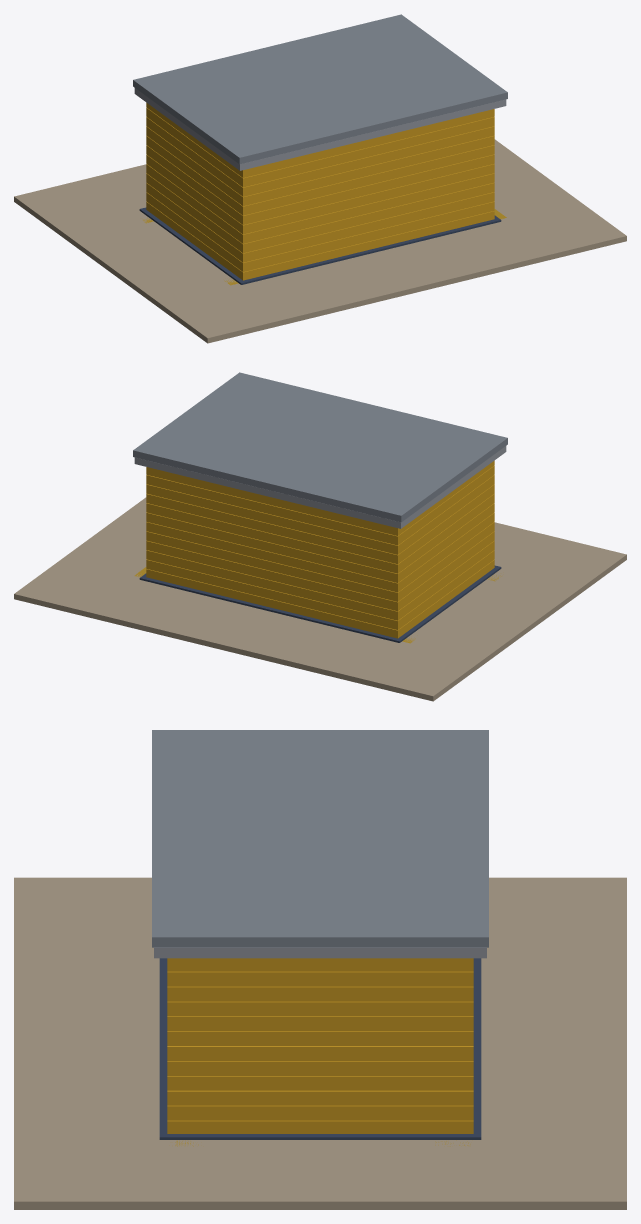
File: stage_05_bands.glb
3 views of the same model, one above another, from view 1: azimuth 30°, elevation 25°; view 2: azimuth 150°, elevation 25°; view 3: azimuth 270°, elevation 25° (orthographic). The views are drawn at different scales.
Parts seen in each view (by area): view 1: world; view 2: world; view 3: world.
Boxes of the visible parts, x1,y1,x2,y2 form: world: [14, 14, 626, 343]; world: [14, 372, 626, 701]; world: [14, 730, 626, 1209].
Size of the model in its own units: 10 by 3.76 by 8.
